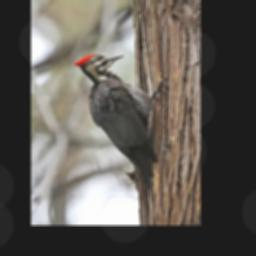Woodpecker: (72, 53, 168, 200)
